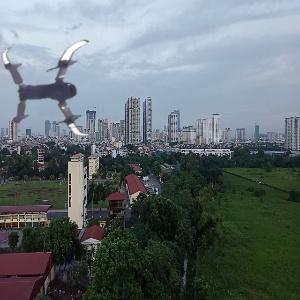drone: (3, 36, 114, 147)
